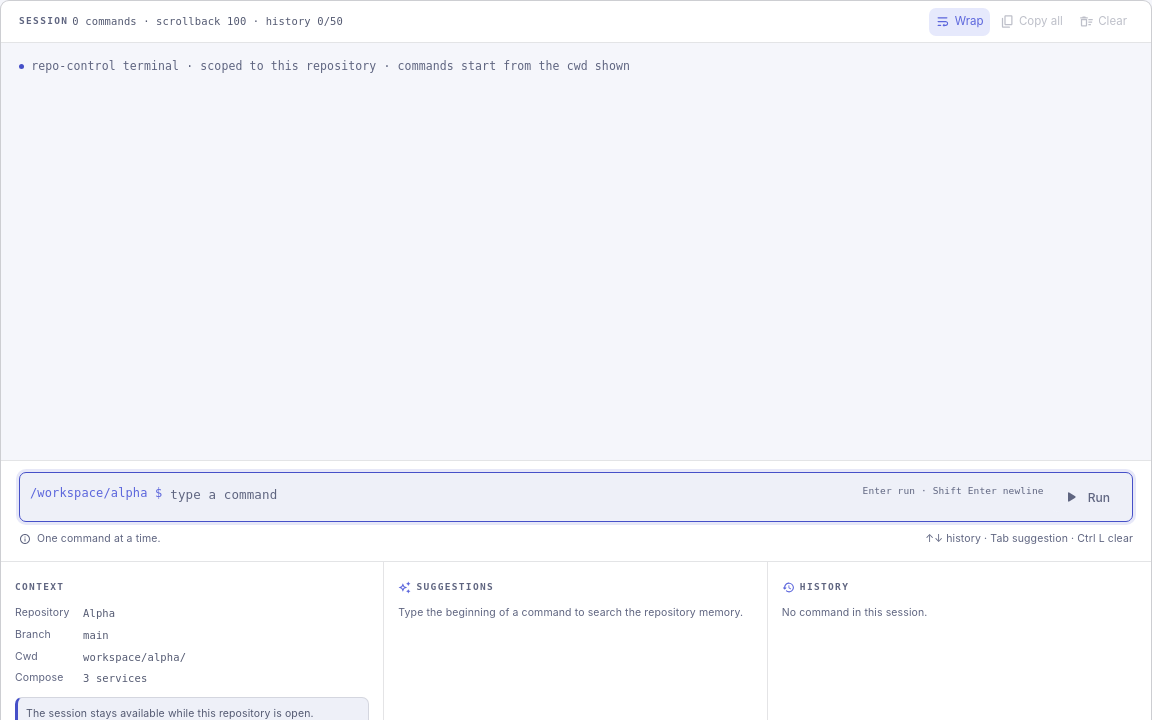
TerminalPanel › runs a trimmed command, renders output and reports completion
Type "  pwd  " into the text box with placeholder "type a command".
click(512, 495); type("  pwd  ")  # box [170,485,855,504]
Then press Enter
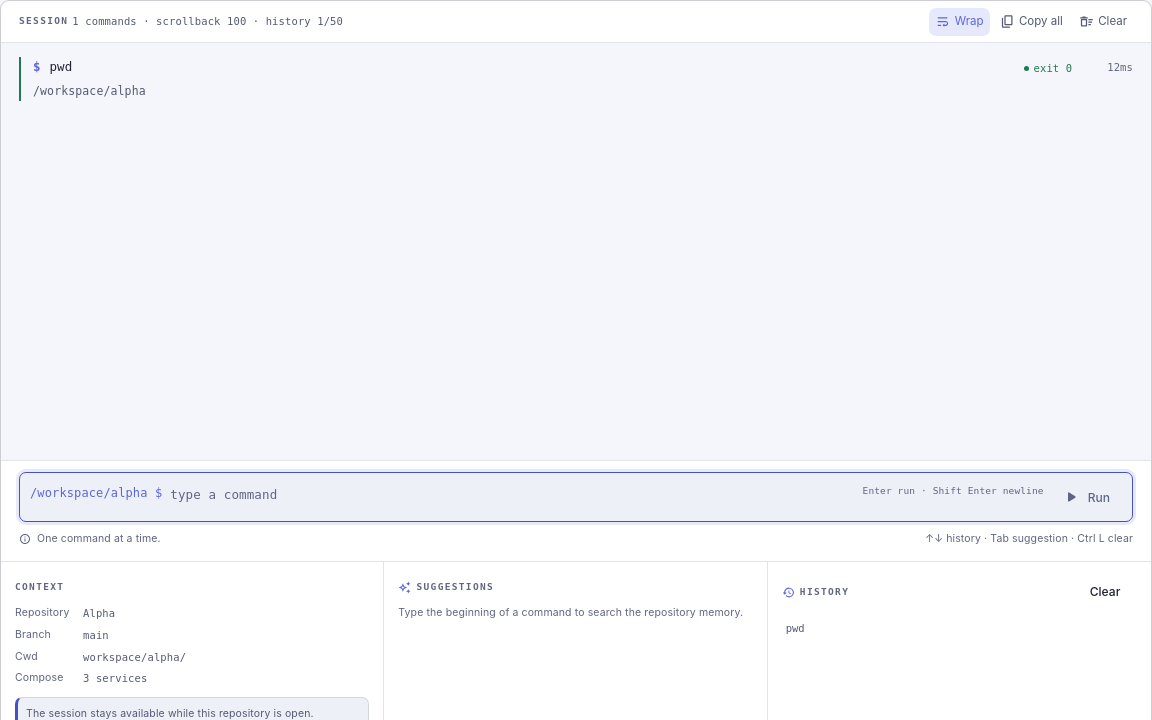
Expected: the text "exit 0" is shown, [1034,60,1072,77]
Expected: the text "12ms" is shown, [1107,61,1133,73]
